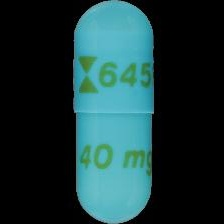50436-3120: (0, 0, 224, 224)
